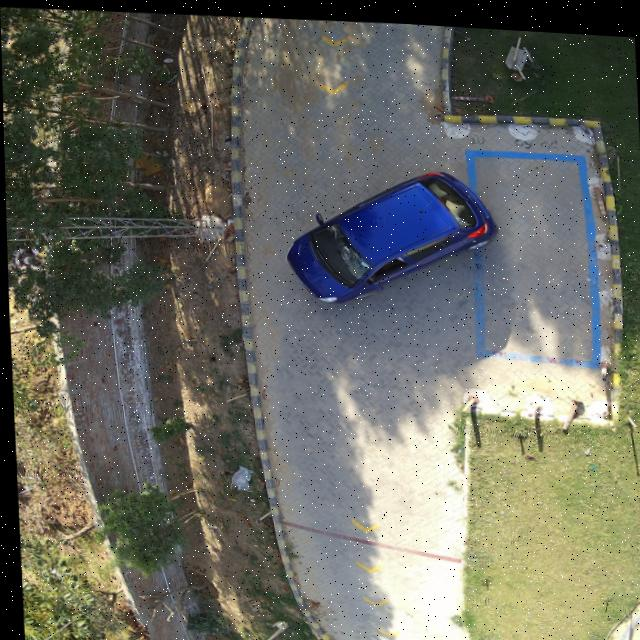car: (285, 164, 498, 299)
